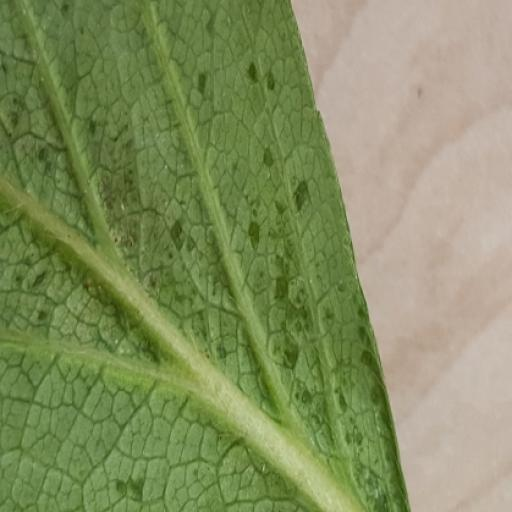Angular Leafspot: (101, 0, 511, 511)
